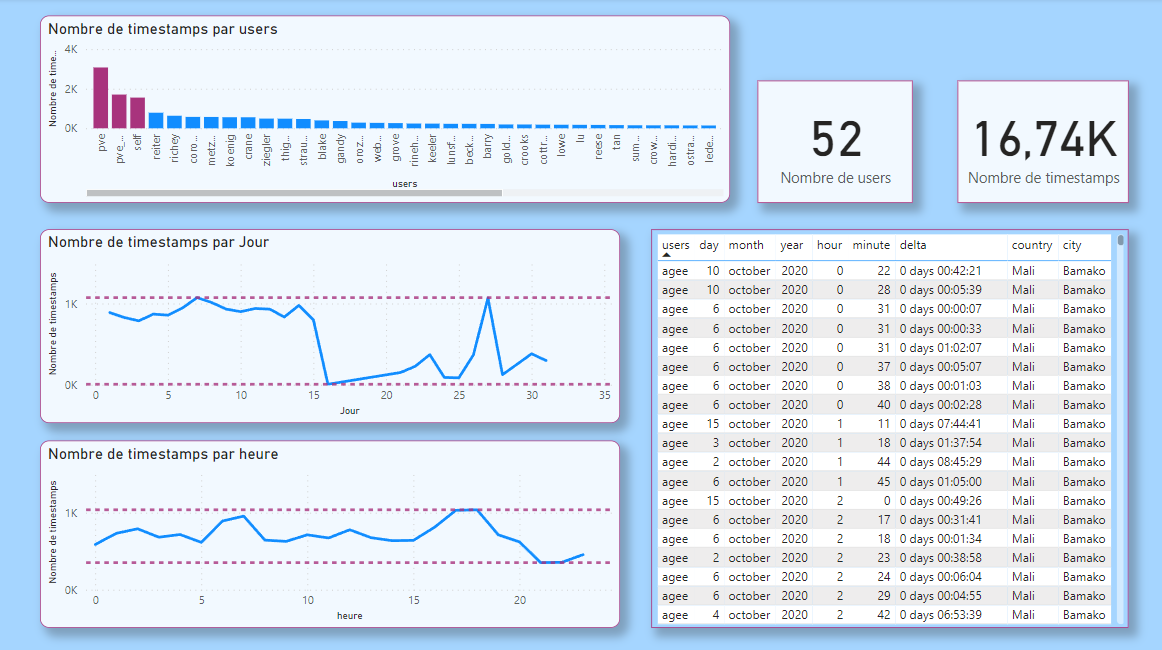

What the dashboard file says about the page in this screenshot:
{"tool":"powerbi","page":{"name":"Temporel","canvas":[1280,720],"ordinal":0},"visuals":[{"type":"card","fields":{"Values":["df_events.users"]},"box":[831.6,90.6,170.2,134.5],"z":0},{"type":"card","fields":{"Values":["df_events.timestamps"]},"box":[1051.1,90.6,188,134.5],"z":1000},{"type":"columnChart","fields":{"Y":["df_events.timestamps"],"Category":["df_events.users"]},"box":[43.9,19.2,757.5,205.8],"z":2000},{"type":"lineChart","fields":{"Y":["df_events.timestamps"],"Category":["df_events.date_time.Variation.Hiérarchie de dates.Jour"]},"box":[43.9,253.9,636.7,212.7],"z":3000},{"type":"tableEx","fields":{"Values":["df_events.users","df_events.day","df_events.month","df_events.year","df_events.hour","df_events.minute","df_events.delta","df_events.country","df_events.city"]},"box":[714.9,253.9,524.2,437.7],"z":4000},{"type":"lineChart","fields":{"Category":["df_events.hour"],"Y":["df_events.timestamps"]},"box":[43.9,485.8,636.7,205.8],"z":5000}]}

Visuals, with their boxes in screenshot pixels (x1, y1, x2, y2), scaled from the page's 1280x720 canvas onto the 1162x650 screenshot:
card - df_events.users: 755 82 909 203
card - df_events.timestamps: 954 82 1125 203
columnChart - df_events.timestamps x df_events.users: 40 17 728 203
lineChart - df_events.timestamps x df_events.date_time.Variation.Hiérarchie de dates.Jour: 40 229 618 421
tableEx - df_events.users x df_events.day: 649 229 1125 624
lineChart - df_events.hour x df_events.timestamps: 40 439 618 624
